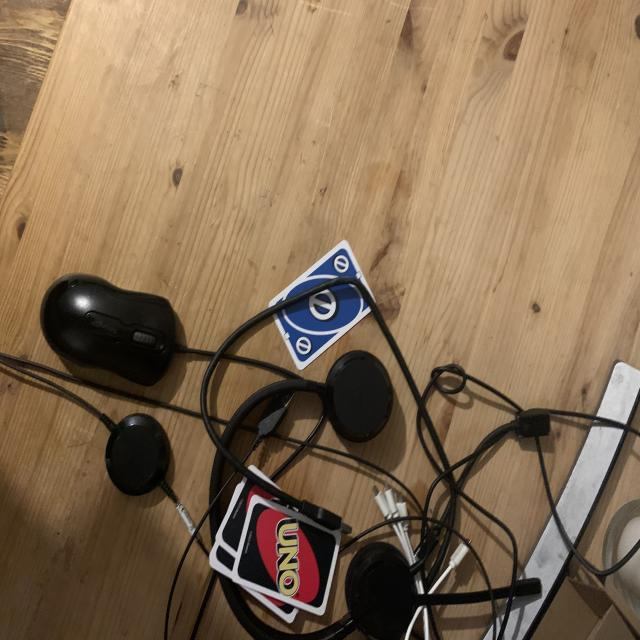lblueskip-20: (331, 252, 352, 275)
